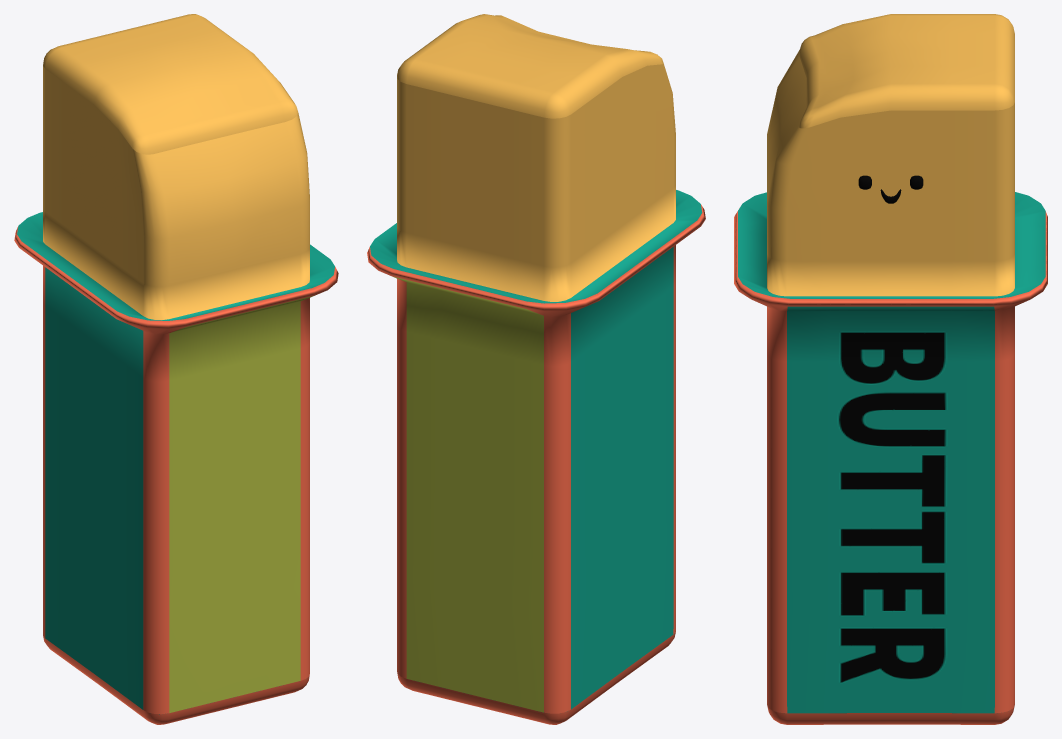
Rendered from butter.glb.
3 views of the same model, side by side, from view 1: azimuth 30°, elevation 25°; view 2: azimuth 150°, elevation 25°; view 3: azimuth 270°, elevation 25° (orthographic). The views are drawn at different scales.
Parts seen in each view (by area): view 1: mesh_char_120_2; view 2: mesh_char_120_2; view 3: mesh_char_120_2.
Part boxes in pixels (x1,y1,x2,y2): mesh_char_120_2: (14, 14, 338, 724); mesh_char_120_2: (367, 14, 705, 724); mesh_char_120_2: (734, 14, 1047, 724).
Size of the model in its own units: 1.23 by 3.27 by 1.46.
1 material, 1 textured.
